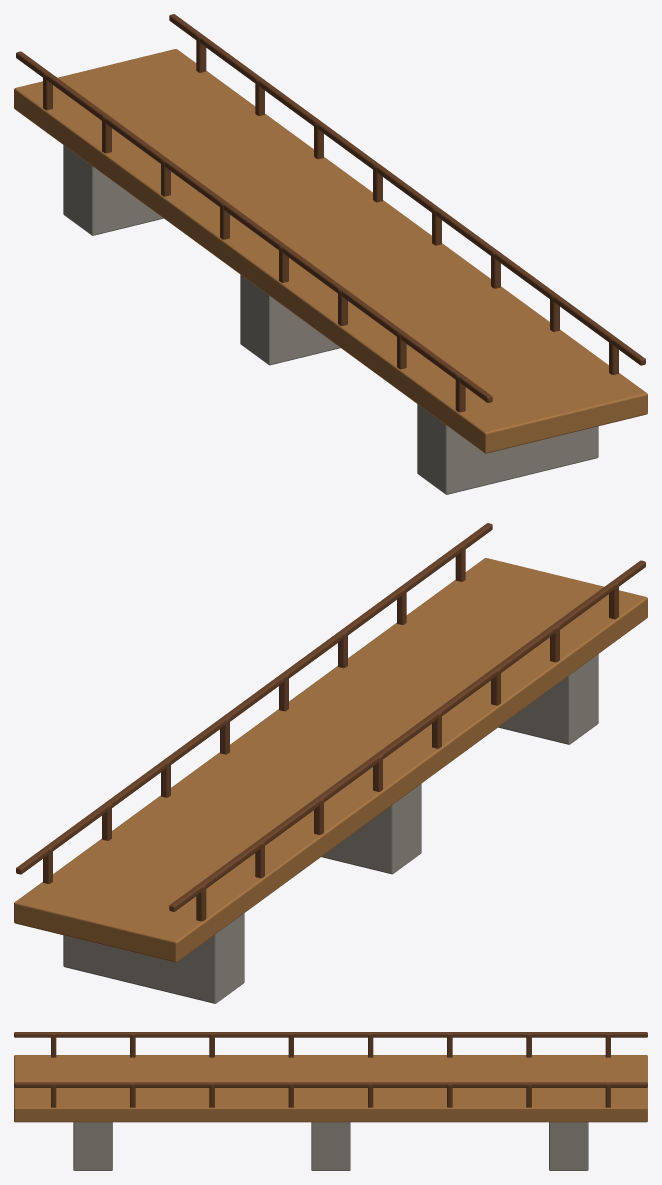
The model's file is bridge.glb.
3 views of the same model, one above another, from view 1: azimuth 30°, elevation 25°; view 2: azimuth 150°, elevation 25°; view 3: azimuth 270°, elevation 25° (orthographic). The views are drawn at different scales.
Visible parts, largest first — view 1: bridge; view 2: bridge; view 3: bridge.
Boxes of the visible parts, <box> form: bridge: <box>14,14,647,494</box>; bridge: <box>14,523,647,1003</box>; bridge: <box>14,1032,647,1170</box>.
Bounding box in the file's own units: 3.2 × 2.46 × 16.
